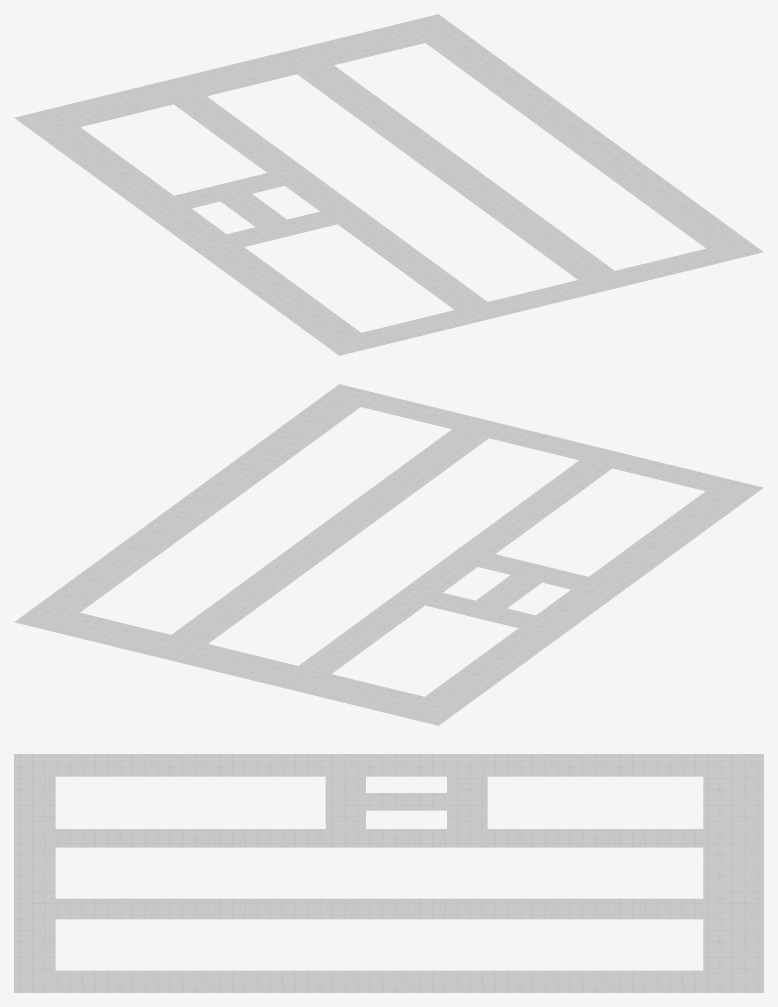
Rendered from Floor.glb.
3 views of the same model, one above another, from view 1: azimuth 30°, elevation 25°; view 2: azimuth 150°, elevation 25°; view 3: azimuth 270°, elevation 25° (orthographic). The views are drawn at different scales.
Parts seen in each view (by area): view 1: Floor_Backup; view 2: Floor_Backup; view 3: Floor_Backup.
Part boxes in pixels (bbox=[...]): Floor_Backup: bbox=[14, 14, 763, 355]; Floor_Backup: bbox=[14, 384, 763, 725]; Floor_Backup: bbox=[14, 754, 763, 992].
Size of the model in its own units: 57.54 by 0 by 76.36.
Materials: 1 (1 with a texture image).
